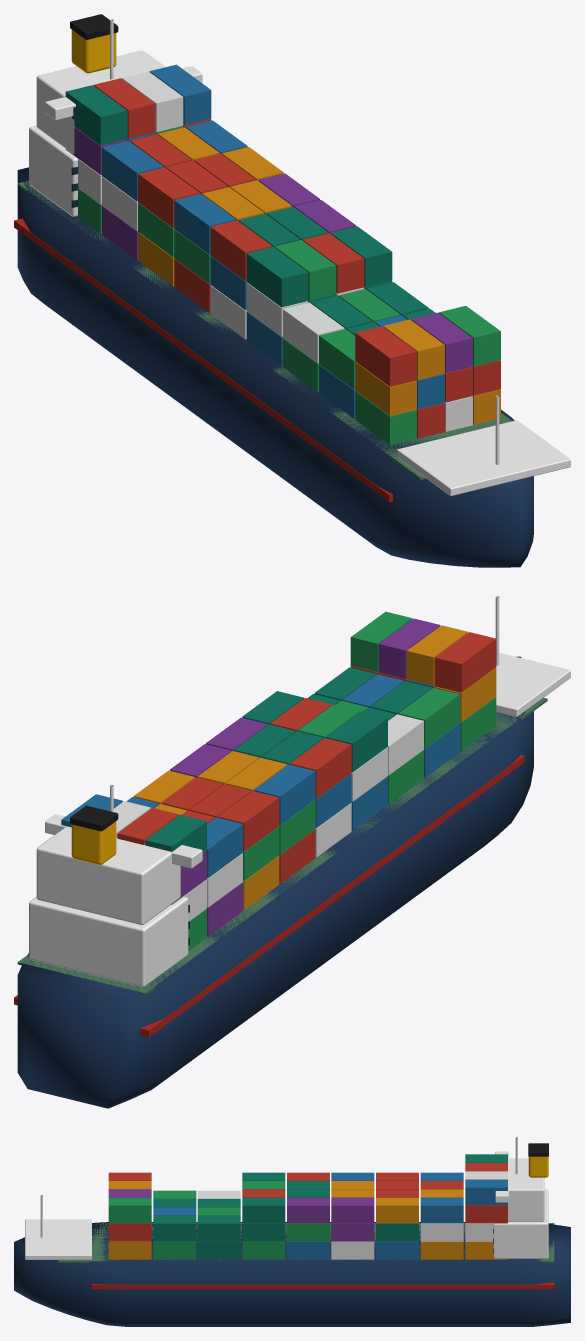
The model's file is ship.glb.
3 renders of one model, top to bottom at view 1: azimuth 30°, elevation 25°; view 2: azimuth 150°, elevation 25°; view 3: azimuth 270°, elevation 25°, orthographic. The views are drawn at different scales.
Parts seen in each view (by area): view 1: hull, bow_deck, bridge2, waterline, bridge1, c3_2_0, c0_2_0, deck, c8_3_0, c4_2_0, c6_2_0, c5_2_0 (+53 smaller); view 2: hull, bridge1, bridge2, deck, waterline, bow_deck, c0_2_0, c1_1_0, c5_2_0, c3_2_0, c4_2_0, c6_2_0 (+41 smaller); view 3: hull, waterline, bow_deck, bridge1, bridge2, deck, c1_1_3, c2_1_3, c0_2_3, c3_2_3, c5_2_3, c7_2_3 (+49 smaller).
Boxes of the visible parts, <box> form: hull: <box>17,167,533,567</box>; bow_deck: <box>397,420,570,496</box>; bridge2: <box>36,50,165,153</box>; waterline: <box>14,218,392,502</box>; bridge1: <box>29,125,77,216</box>; c3_2_0: <box>246,247,308,307</box>; c0_2_0: <box>355,326,416,386</box>; deck: <box>17,181,512,480</box>; c8_3_0: <box>65,85,127,145</box>; c4_2_0: <box>210,220,272,280</box>; c6_2_0: <box>138,167,199,227</box>; c5_2_0: <box>174,194,235,254</box>; hull: <box>17,656,533,1108</box>; bridge1: <box>29,896,188,986</box>; bridge2: <box>36,826,180,924</box>; deck: <box>17,698,547,995</box>; waterline: <box>14,755,524,1037</box>; bow_deck: <box>496,653,570,716</box>; c0_2_0: <box>434,632,496,692</box>; c1_1_0: <box>398,688,460,748</box>; c5_2_0: <box>253,764,315,824</box>; c3_2_0: <box>326,711,387,772</box>; c4_2_0: <box>290,738,351,798</box>; c6_2_0: <box>217,791,279,851</box>; hull: <box>14,1222,570,1326</box>; waterline: <box>92,1282,554,1289</box>; bow_deck: <box>25,1219,91,1259</box>; bridge1: <box>493,1189,548,1258</box>; bridge2: <box>508,1158,544,1221</box>; deck: <box>58,1223,554,1262</box>; c1_1_3: <box>153,1215,196,1241</box>; c2_1_3: <box>197,1215,240,1241</box>; c0_2_3: <box>108,1197,151,1223</box>; c3_2_3: <box>242,1197,285,1223</box>; c5_2_3: <box>331,1197,374,1223</box>; c7_2_3: <box>420,1197,463,1223</box>.
Bounding box in the file's own units: 13.2 × 24 × 70.
